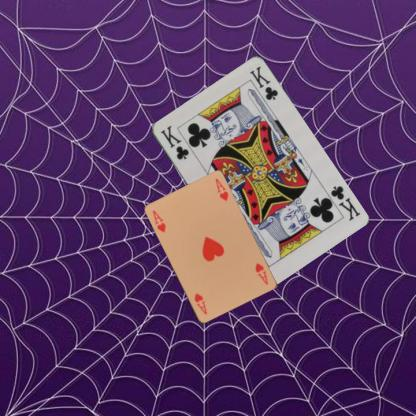Ah: (252, 261, 270, 286), (150, 207, 167, 233)
Kc: (328, 183, 361, 223), (158, 123, 190, 161)
